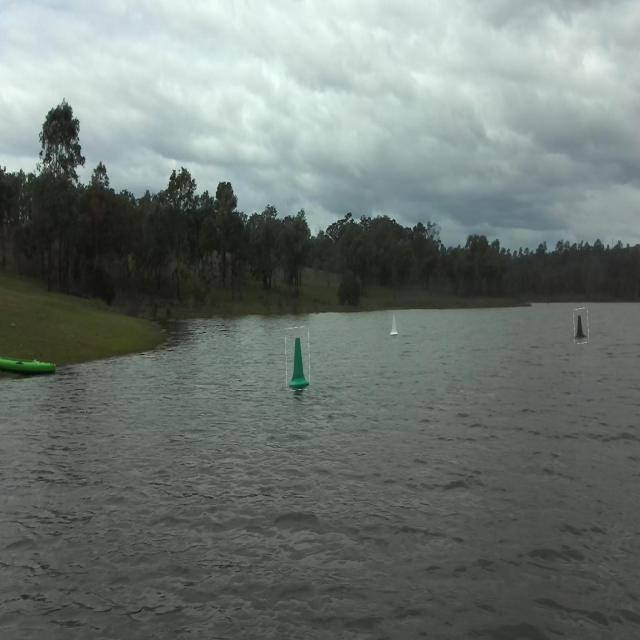Black_Buoy: (566, 304, 590, 344)
Green_Buoy: (286, 331, 310, 415)
White_Buoy: (387, 305, 402, 352)
